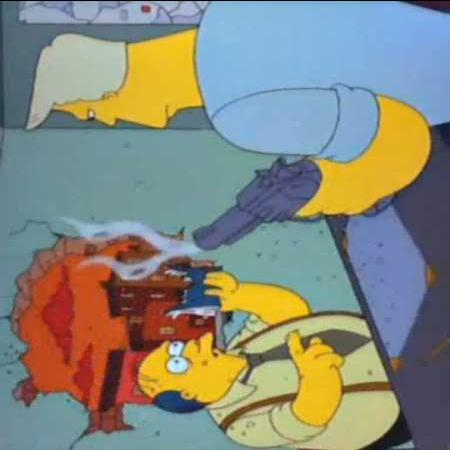Pistol: (193, 145, 400, 257)
